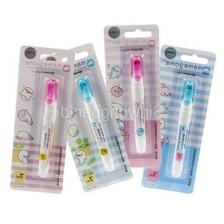book: (39, 40, 138, 193), (140, 42, 217, 195), (6, 42, 77, 195), (101, 19, 163, 169)
correction_fluid: (76, 71, 116, 173), (168, 77, 200, 179), (34, 75, 62, 180), (128, 52, 149, 156)
